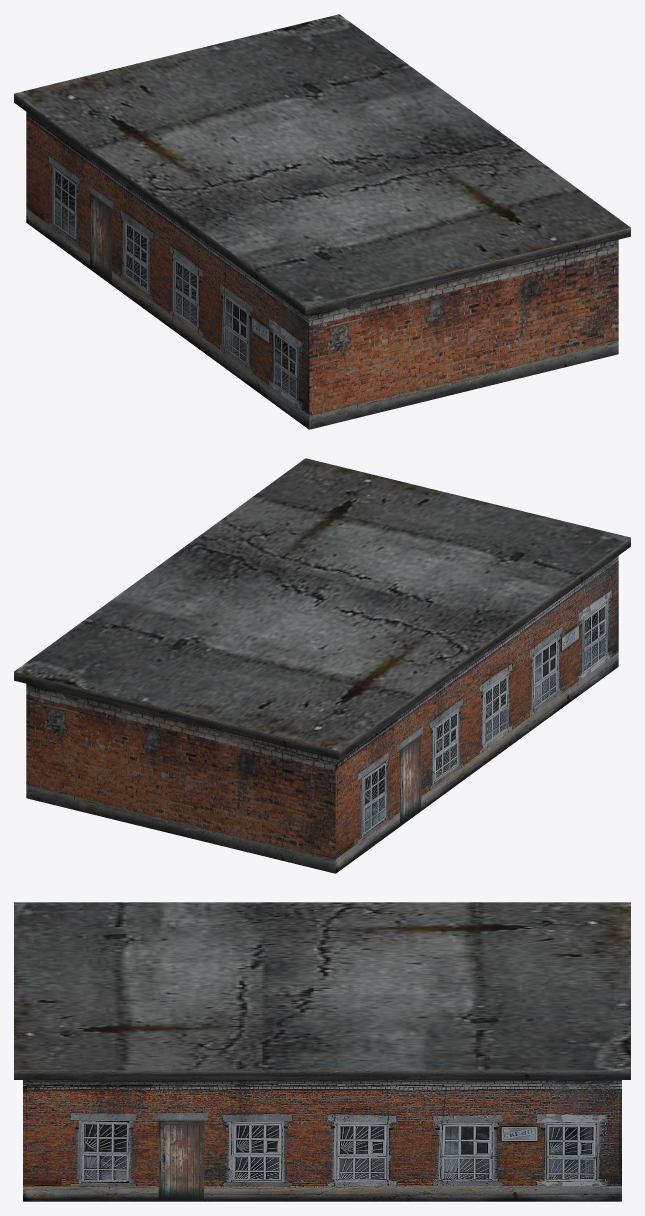
File: d_put_zdanie_6.FBX
3 views of the same model, one above another, from view 1: azimuth 30°, elevation 25°; view 2: azimuth 150°, elevation 25°; view 3: azimuth 270°, elevation 25° (orthographic). The views are drawn at different scales.
Parts seen in each view (by area): view 1: d_put_zdanie_6; view 2: d_put_zdanie_6; view 3: d_put_zdanie_6.
Part boxes in pixels (<box>): d_put_zdanie_6: <box>14,14,630,429</box>; d_put_zdanie_6: <box>14,458,630,873</box>; d_put_zdanie_6: <box>14,902,630,1201</box>.
Bounding box in the file's own units: 9.46 × 14.68 × 3.55.
